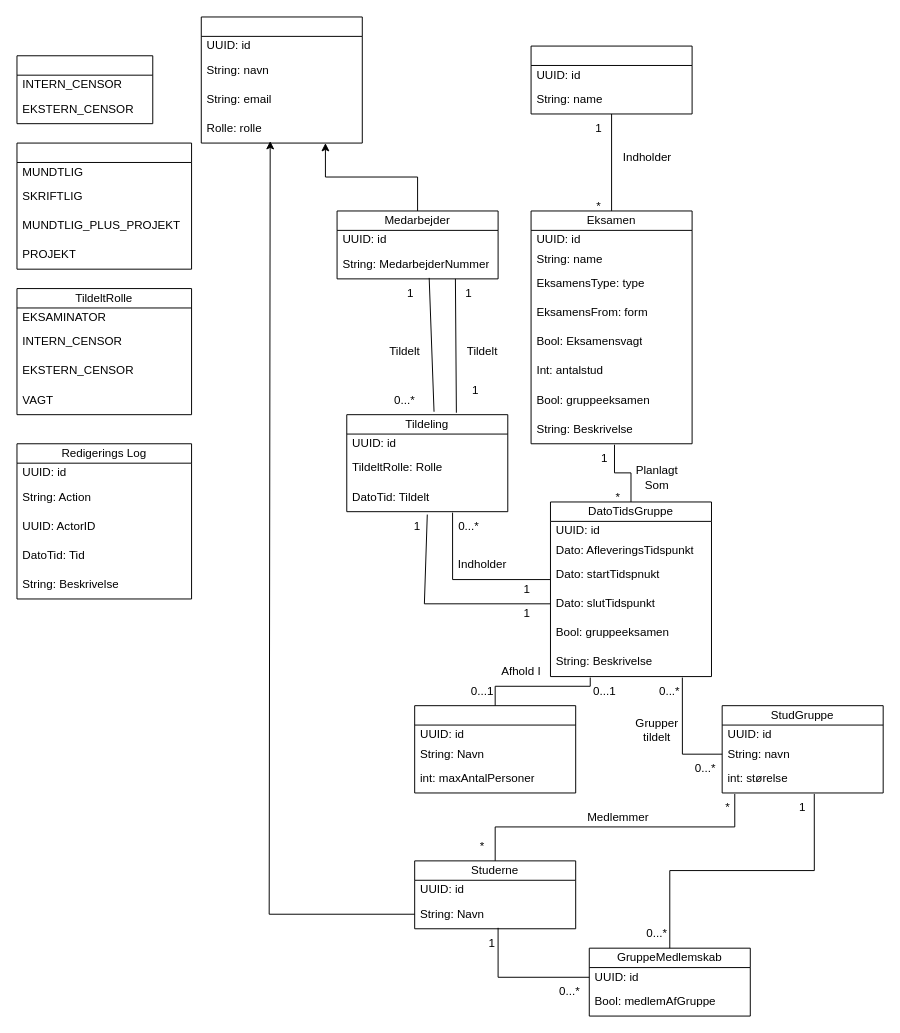
The diagram is 900 pixels wide and 1033 high, and some of its shapes have lost their labels. The box of each missing label's shape, as (x1, y1, x2, y2) in pixels:
Bruger: (200, 16, 362, 143)
EksamensForm: (16, 142, 192, 269)
EksamensType: (16, 55, 153, 124)
Hold: (530, 45, 692, 114)
Lokale: (414, 705, 576, 793)
